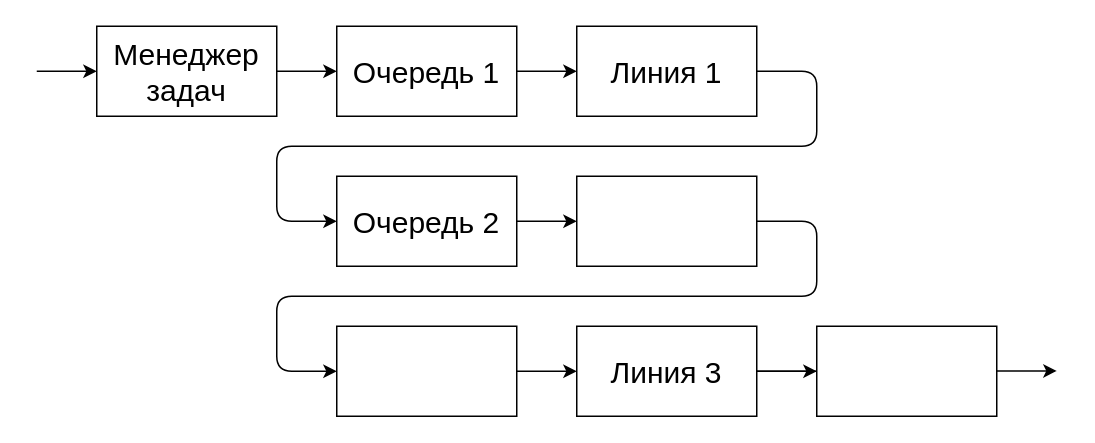
Image size: 1095x443. Some labels were removed from this diagram. Each missing label, with the box of its shape:
Линия 2: (575, 175, 757, 266)
Очередь 3: (335, 325, 517, 416)
Результат: (815, 325, 997, 416)
